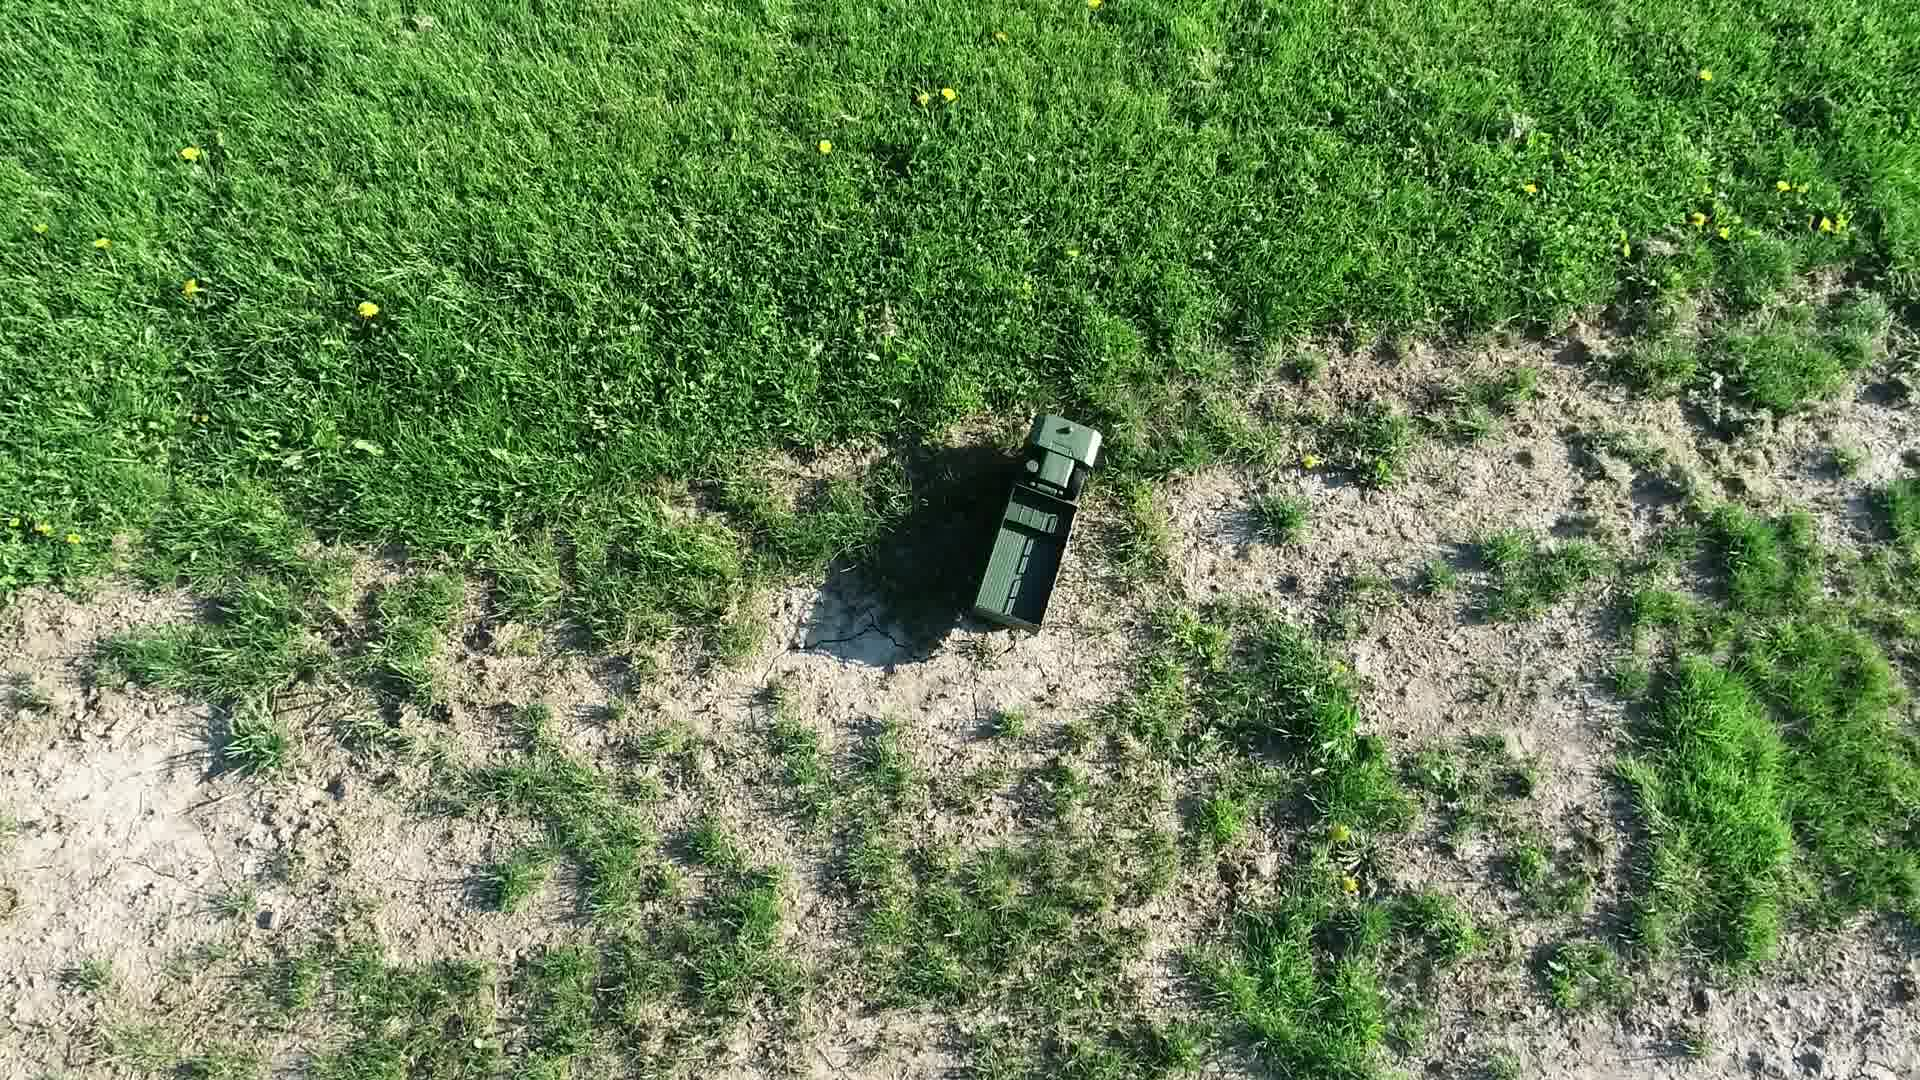transporter9: (927, 406, 1143, 644)
